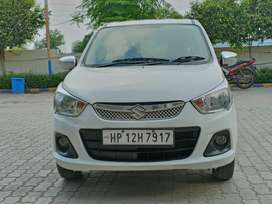HP12H7917: (102, 130, 173, 144)
